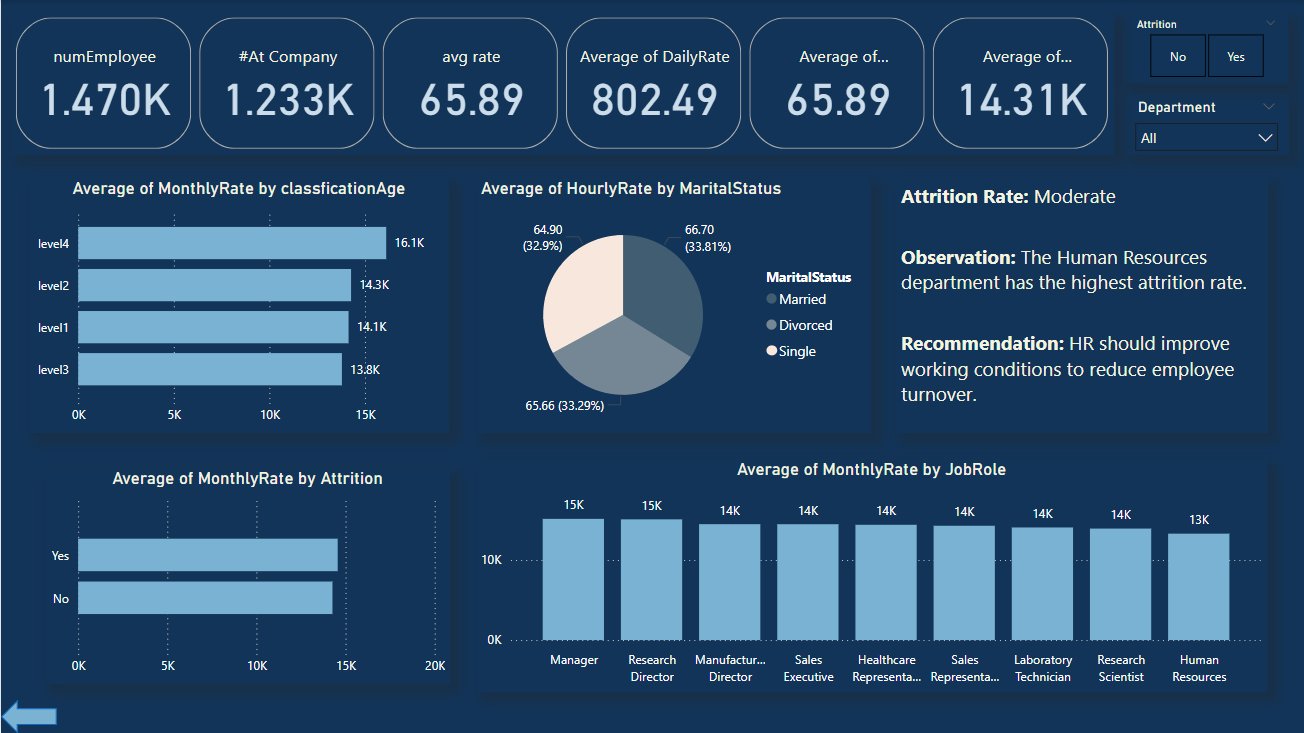

The page's visual inventory and layout, read from the dashboard file:
{"tool":"powerbi","page":{"name":"Rate ","canvas":[1280,720],"ordinal":3},"visuals":[{"type":"cardVisual","fields":{"Data":["hr data.numEmployee","hr data.At Company","hr data.avg rate","Avg(hr data.DailyRate)","Avg(hr data.HourlyRate)","Avg(hr data.MonthlyRate)"]},"box":[9.6,12.3,1082.7,140],"z":0},{"type":"slicer","fields":{"Values":["hr data.Department"]},"box":[1103.3,91.9,160.5,60.4],"z":1},{"type":"slicer","fields":{"Values":["hr data.Attrition"]},"box":[1101.9,12.3,161.9,70],"z":2},{"type":"barChart","fields":{"Category":["hr data.classficationAge"],"Y":["Avg(hr data.MonthlyRate)"]},"box":[27.4,174.3,413,251.1],"z":3},{"type":"barChart","fields":{"Y":["Avg(hr data.MonthlyRate)"],"Category":["hr data.Attrition"]},"box":[42.5,458.3,397.9,212.7],"z":4},{"type":"columnChart","fields":{"Category":["hr data.JobRole"],"Y":["Avg(hr data.MonthlyRate)"]},"box":[466.6,450.1,776.7,229.2],"z":5},{"type":"pieChart","fields":{"Y":["Avg(hr data.HourlyRate)"],"Category":["hr data.MaritalStatus"]},"box":[466.6,174.3,388.3,251.1],"z":6},{"type":"shape","box":[0,687.5,54.9,32.9],"z":7},{"type":"textbox","box":[878.2,174.3,365,251.1],"z":8}]}

Visuals, with their boxes in screenshot pixels (x1, y1, x2, y2), scaled from the page's 1280x720 canvas onto the 1304x733 screenshot:
cardVisual - hr data.numEmployee x hr data.At Company: (10,13,1113,155)
slicer - hr data.Department: (1124,94,1287,155)
slicer - hr data.Attrition: (1123,13,1287,84)
barChart - hr data.classficationAge x Avg(hr data.MonthlyRate): (28,177,449,433)
barChart - Avg(hr data.MonthlyRate) x hr data.Attrition: (43,467,449,683)
columnChart - hr data.JobRole x Avg(hr data.MonthlyRate): (475,458,1267,692)
pieChart - Avg(hr data.HourlyRate) x hr data.MaritalStatus: (475,177,871,433)
shape: (0,700,56,732)
textbox: (895,177,1267,433)
